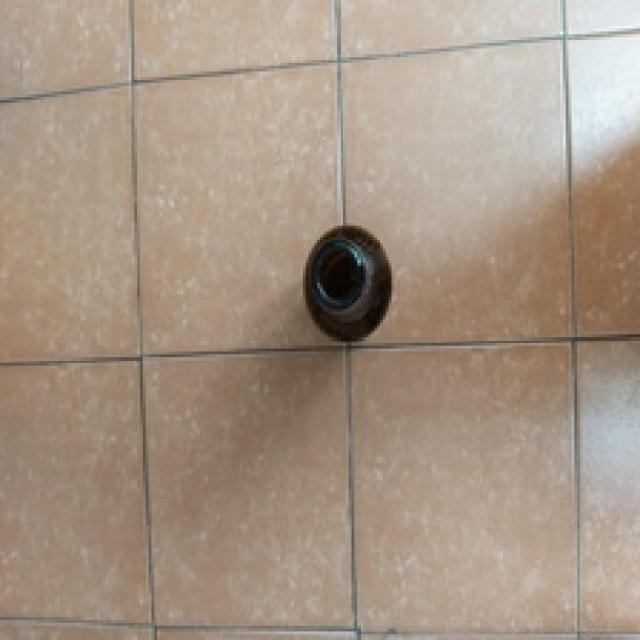Glass: (301, 222, 392, 344)
